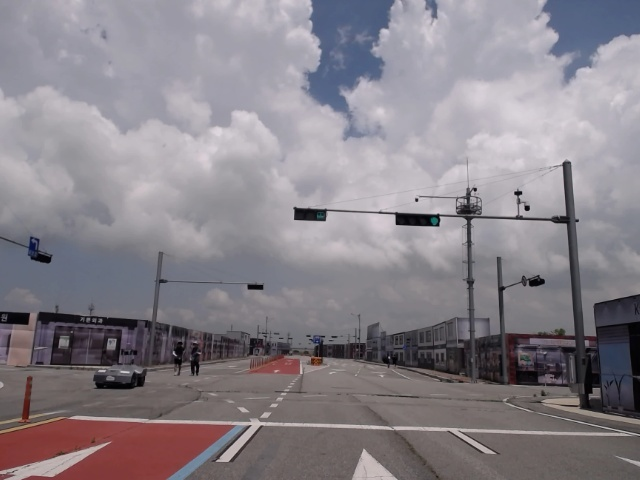straight_green_4: (397, 212, 442, 227)
